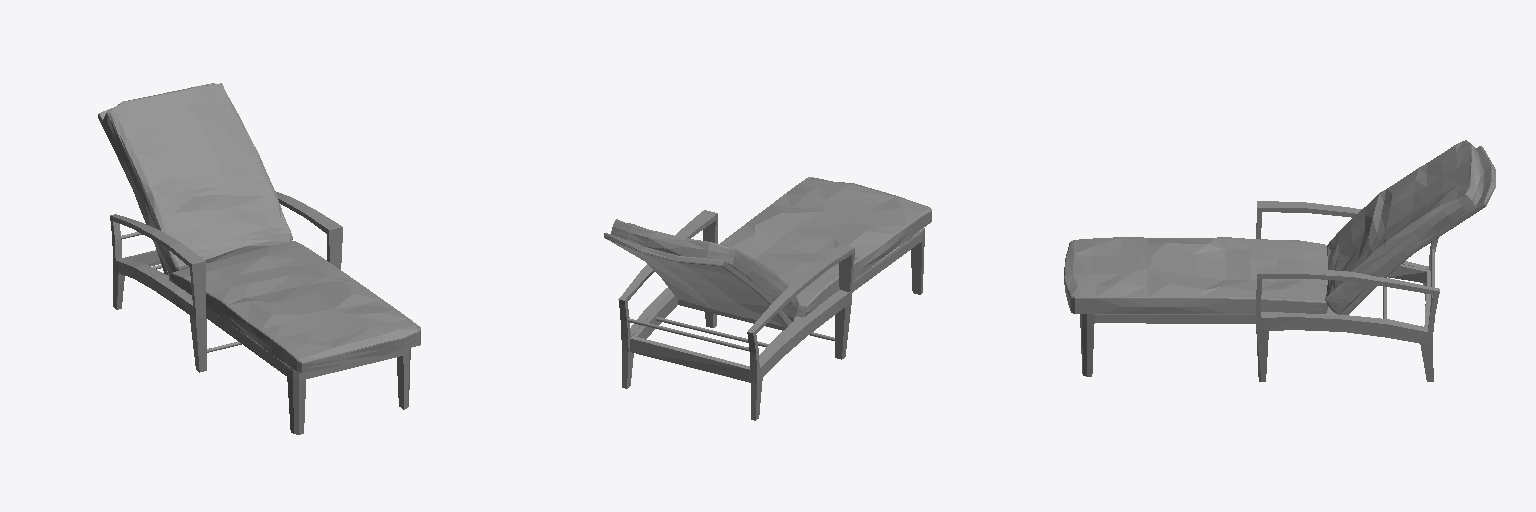
Rendered from silla_alb.obj.
The picture shows the model from 3 angles: view 1: azimuth 30°, elevation 25°; view 2: azimuth 150°, elevation 25°; view 3: azimuth 270°, elevation 25°; orthographic projection.
Parts seen in each view (by area): view 1: Chair_2; view 2: Chair_2; view 3: Chair_2.
Part boxes in pixels (x1,y1,x2,y2): Chair_2: (98, 83, 420, 434); Chair_2: (604, 177, 931, 420); Chair_2: (1064, 140, 1495, 381).
Size of the model in its own units: 69.69 by 82.5 by 173.